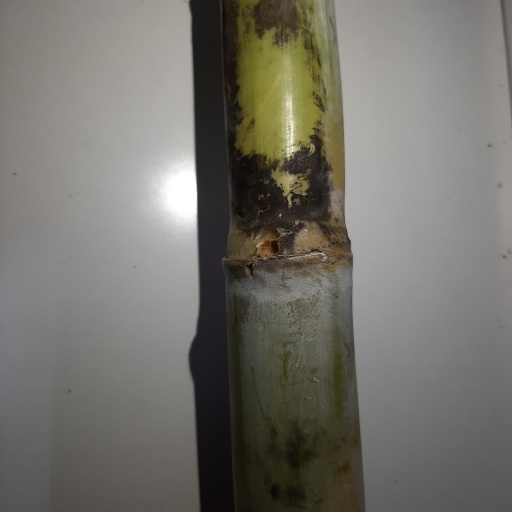Damage_Bud: (255, 231, 281, 259)
